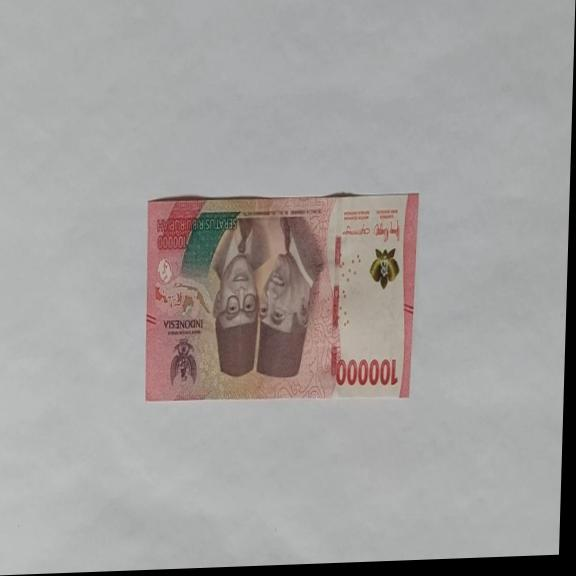Kertas: (141, 186, 420, 406), (334, 353, 399, 390)
